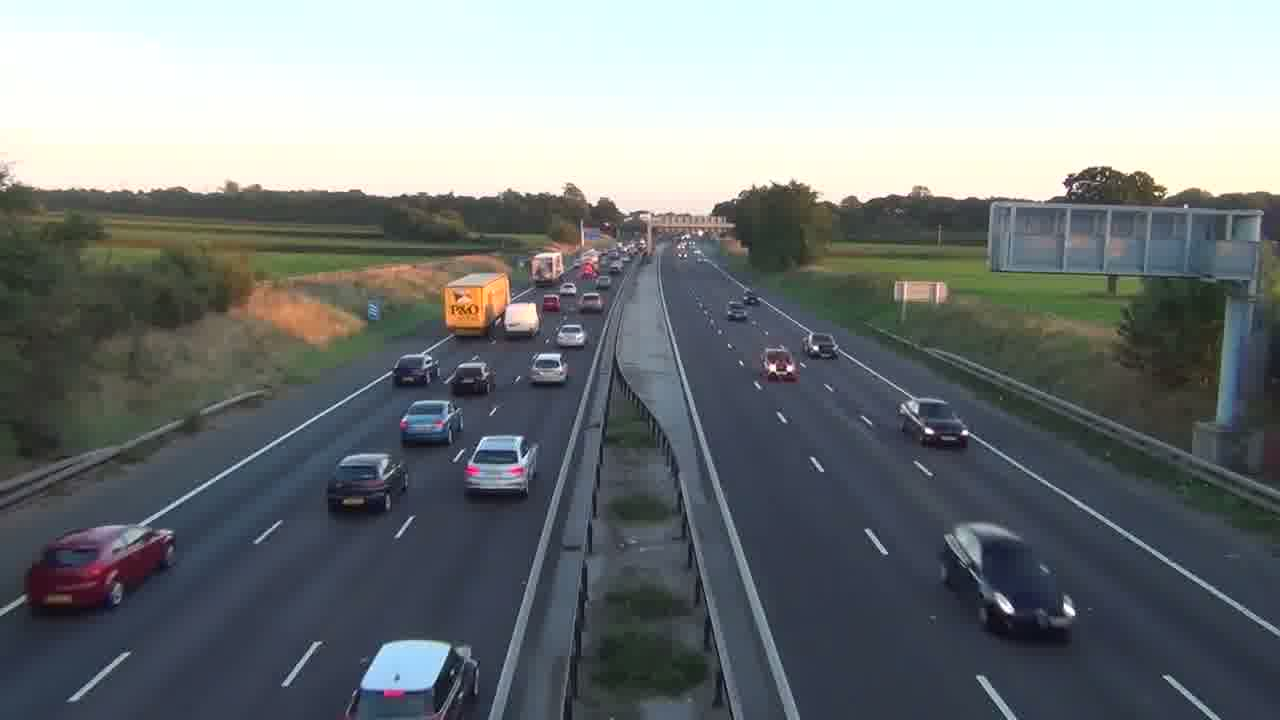car: (341, 638, 481, 719), (326, 451, 409, 514), (462, 434, 541, 498), (897, 396, 969, 450), (399, 399, 463, 446), (445, 359, 496, 396), (392, 351, 439, 386), (758, 345, 801, 383), (528, 351, 569, 386), (801, 332, 839, 360), (556, 321, 588, 349)
truck: (941, 521, 1078, 637), (25, 523, 177, 613), (442, 271, 511, 338), (503, 302, 540, 338)
